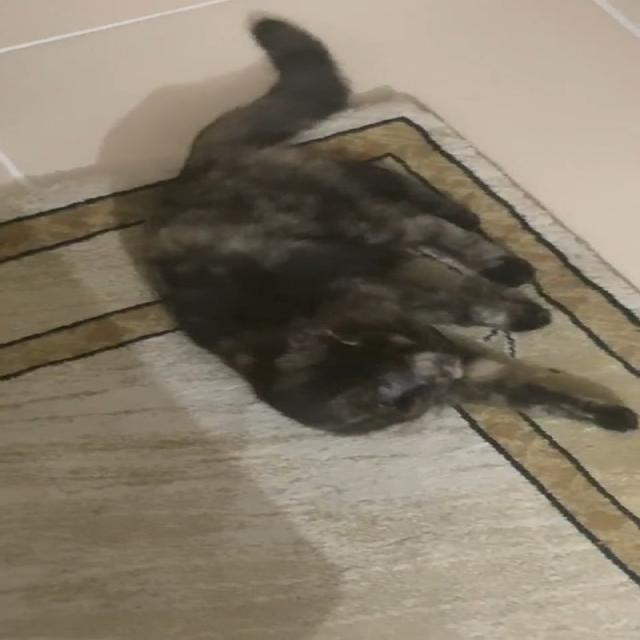authorized: (124, 13, 637, 437)
